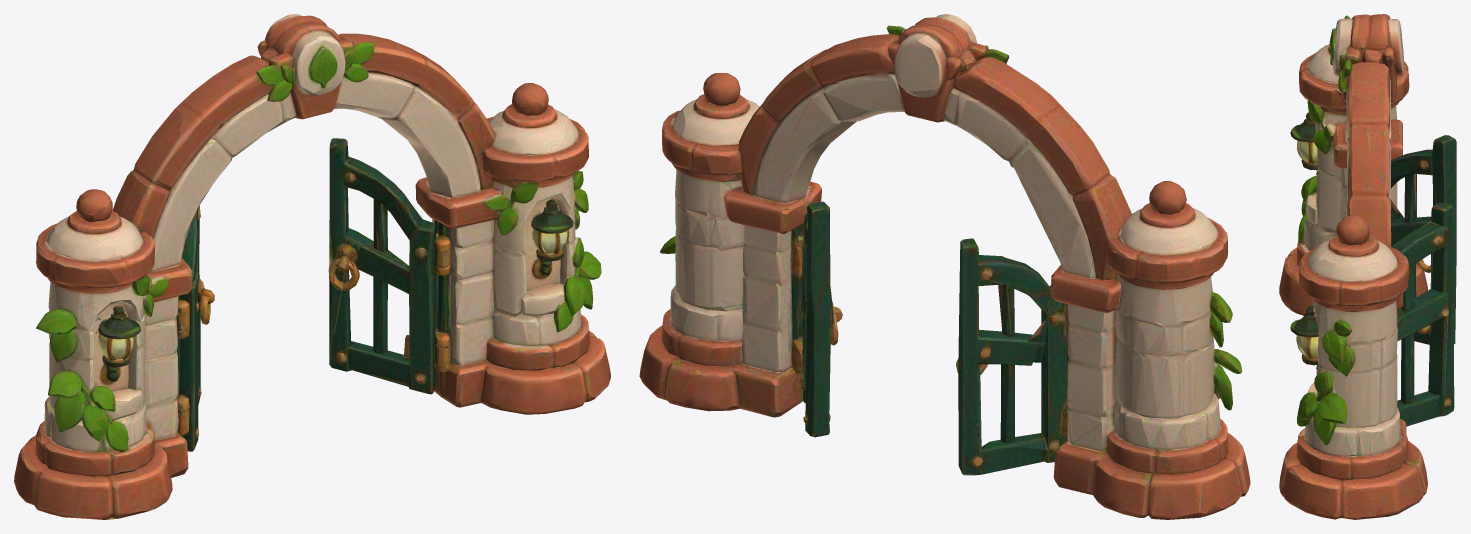
File: garden-gate.glb
3 renders of one model, left to right at view 1: azimuth 30°, elevation 25°; view 2: azimuth 150°, elevation 25°; view 3: azimuth 270°, elevation 25°, orthographic. The views are drawn at different scales.
Visible parts, largest first — view 1: output_unwrapped; view 2: output_unwrapped; view 3: output_unwrapped.
Part boxes in pixels (<box>): output_unwrapped: <box>14,14,610,519</box>; output_unwrapped: <box>639,14,1250,519</box>; output_unwrapped: <box>1279,14,1456,519</box>.
Bounding box in the file's own units: 1.9 × 1.29 × 0.5547.
1 material, 1 textured.
